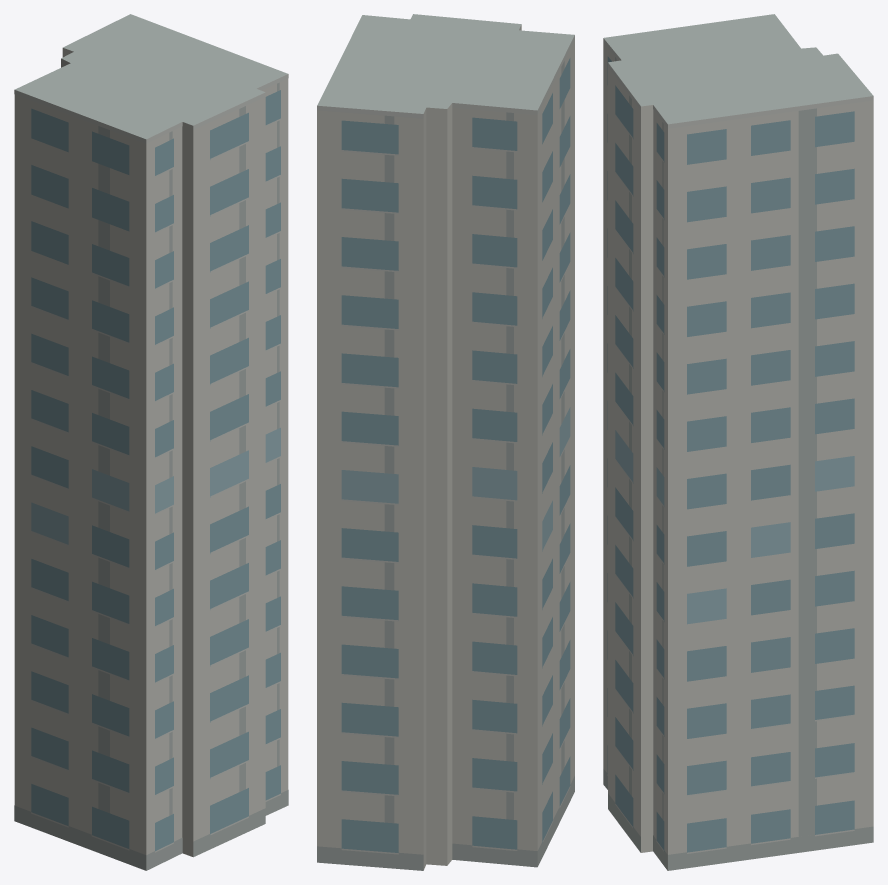
The model's file is residential-9398d277-0a79-4e76-af84-5146134a2ffa.glb.
3 renders of one model, left to right at view 1: azimuth 30°, elevation 25°; view 2: azimuth 150°, elevation 25°; view 3: azimuth 270°, elevation 25°, orthographic. The views are drawn at different scales.
Parts seen in each view (by area): view 1: residential-9398d277-0a79-4e76-af84-5146134a2ffa.tmp; view 2: residential-9398d277-0a79-4e76-af84-5146134a2ffa.tmp; view 3: residential-9398d277-0a79-4e76-af84-5146134a2ffa.tmp.
Boxes of the visible parts, bbox=[...] form: residential-9398d277-0a79-4e76-af84-5146134a2ffa.tmp: bbox=[14, 14, 288, 870]; residential-9398d277-0a79-4e76-af84-5146134a2ffa.tmp: bbox=[317, 14, 574, 870]; residential-9398d277-0a79-4e76-af84-5146134a2ffa.tmp: bbox=[603, 14, 873, 870].
Bounding box in the file's own units: 12.58 × 39.65 × 13.02.
